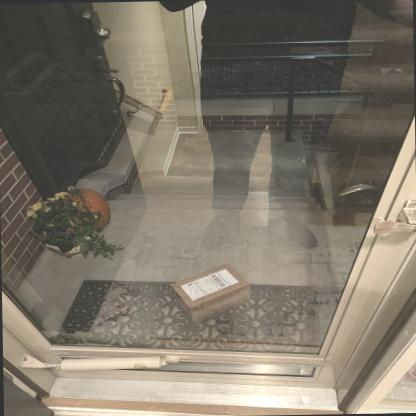box: (171, 263, 251, 323)
